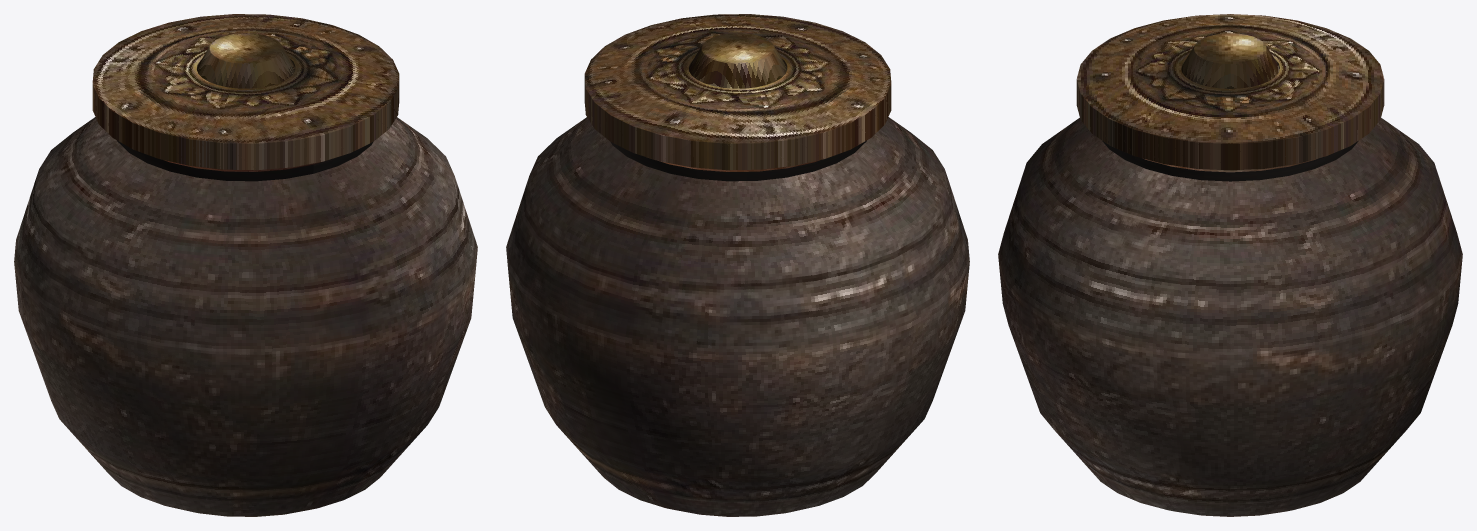
File: crock_lidded.glb
3 views of the same model, side by side, from view 1: azimuth 30°, elevation 25°; view 2: azimuth 150°, elevation 25°; view 3: azimuth 270°, elevation 25° (orthographic).
Visible parts, largest first — view 1: body, piece_06, piece_10, piece_07, piece_00, piece_08, piece_11, piece_01, piece_09, piece_02; view 2: body, piece_11, piece_09, piece_08, piece_05, piece_10, piece_04, piece_00, piece_06, piece_07, piece_03; view 3: body, piece_08, piece_06, piece_09, piece_03, piece_11, piece_07, piece_02, piece_10, piece_04.
Part boxes in pixels (x1=…): body: x1=14, y1=117, x2=477, y2=516; piece_06: x1=228, y1=58, x2=475, y2=370; piece_10: x1=39, y1=75, x2=215, y2=369; piece_07: x1=198, y1=61, x2=367, y2=380; piece_00: x1=18, y1=272, x2=247, y2=516; piece_08: x1=217, y1=14, x2=452, y2=171; piece_11: x1=24, y1=31, x2=216, y2=216; piece_01: x1=208, y1=370, x2=366, y2=516; piece_09: x1=141, y1=14, x2=247, y2=61; piece_02: x1=344, y1=317, x2=471, y2=499; body: x1=506, y1=117, x2=969, y2=516; piece_11: x1=640, y1=55, x2=883, y2=323; piece_09: x1=522, y1=56, x2=763, y2=319; piece_08: x1=508, y1=23, x2=773, y2=290; piece_05: x1=631, y1=308, x2=887, y2=516; piece_10: x1=781, y1=65, x2=969, y2=301; piece_04: x1=523, y1=294, x2=639, y2=499; piece_00: x1=811, y1=265, x2=969, y2=507; piece_06: x1=660, y1=14, x2=831, y2=58; piece_07: x1=774, y1=28, x2=924, y2=144; piece_03: x1=509, y1=280, x2=551, y2=416; body: x1=998, y1=117, x2=1462, y2=516; piece_08: x1=1148, y1=35, x2=1401, y2=388; piece_06: x1=999, y1=35, x2=1211, y2=387; piece_09: x1=1233, y1=35, x2=1456, y2=314; piece_03: x1=1155, y1=339, x2=1405, y2=515; piece_11: x1=1229, y1=15, x2=1452, y2=220; piece_07: x1=998, y1=31, x2=1195, y2=301; piece_02: x1=1012, y1=329, x2=1202, y2=515; piece_10: x1=1128, y1=14, x2=1259, y2=43; piece_04: x1=1327, y1=241, x2=1458, y2=499.
Bounding box in the file's own units: 0.4 × 0.3936 × 0.4.
Materials: 1 (1 with a texture image).
